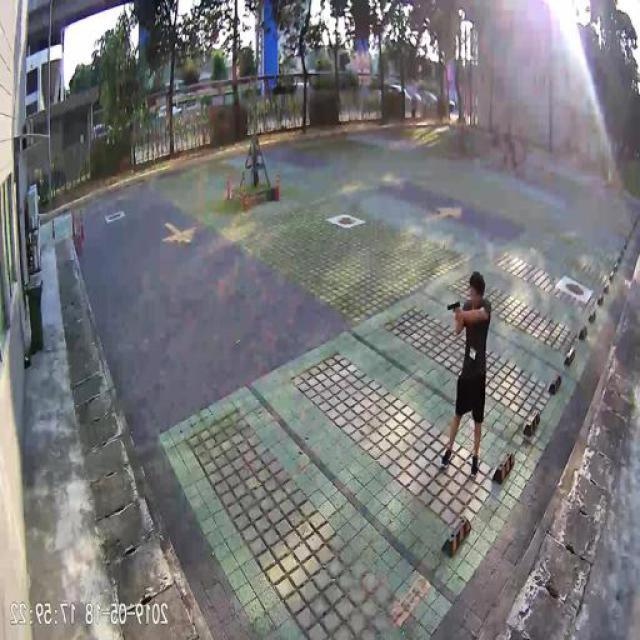weapon: (448, 301, 462, 321)
